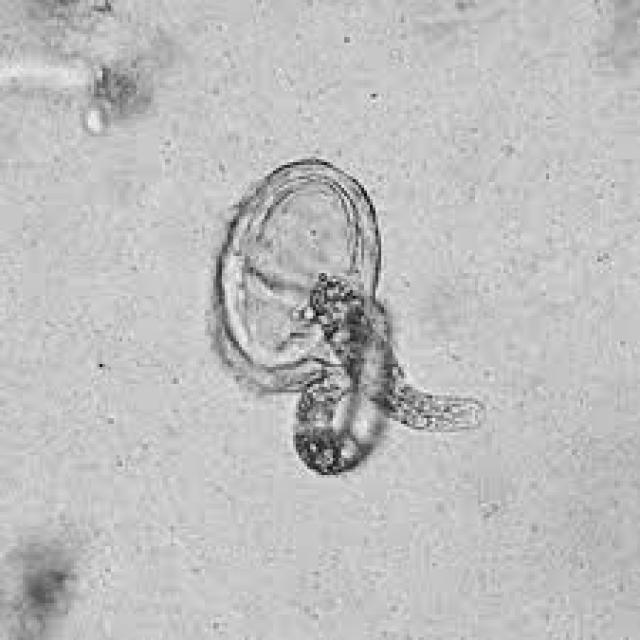Ascaris Lumbricoides: (215, 151, 391, 401)
